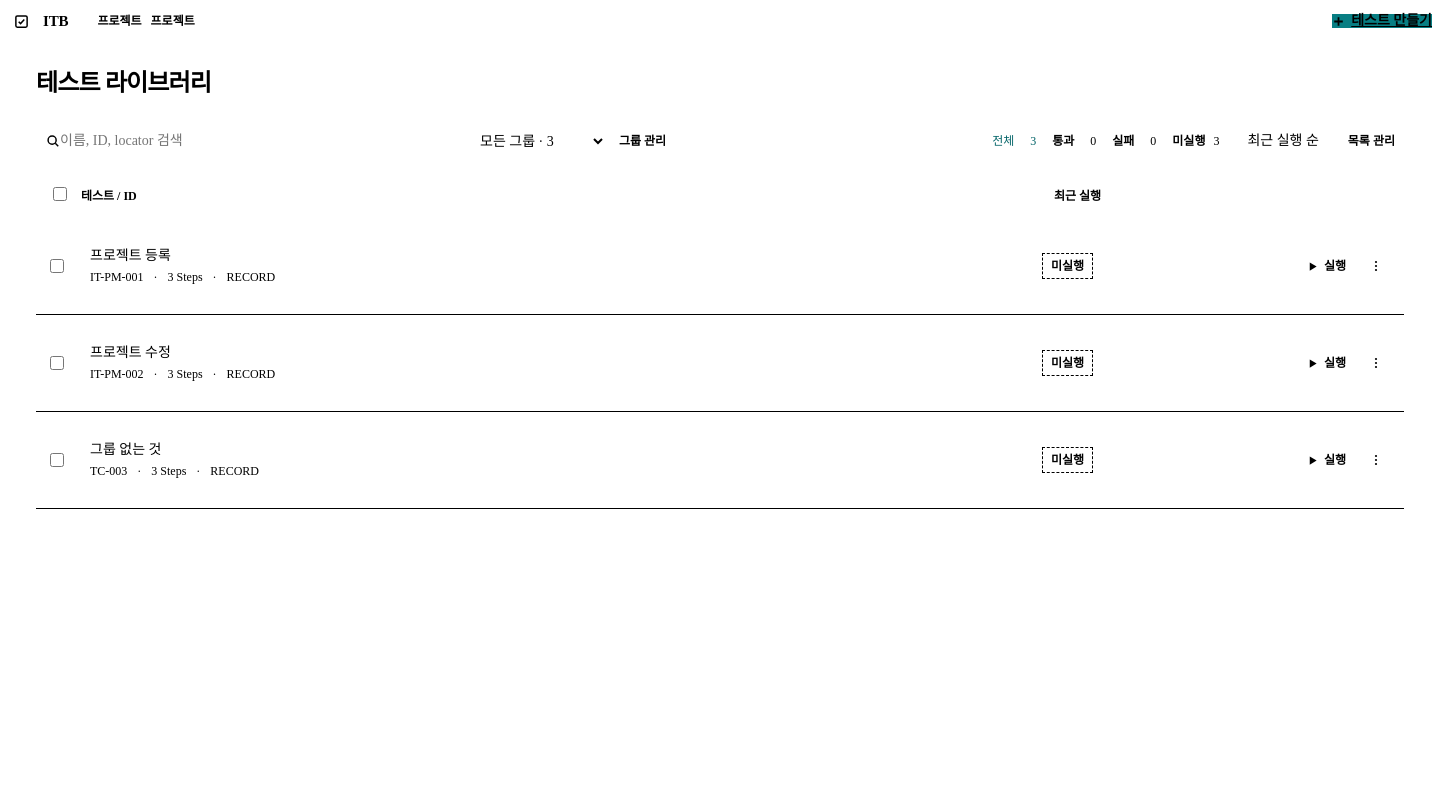
Scenario: 선택칸 경로 (FR-027 · SC-006) › 끌지 않고도 같은 이동을 한다
Expected: the text "프로젝트 등록" is shown, [90,248,171,263]
Click the checkbox named "프로젝트 등록 선택" at [57, 266], box [50,259,64,273]
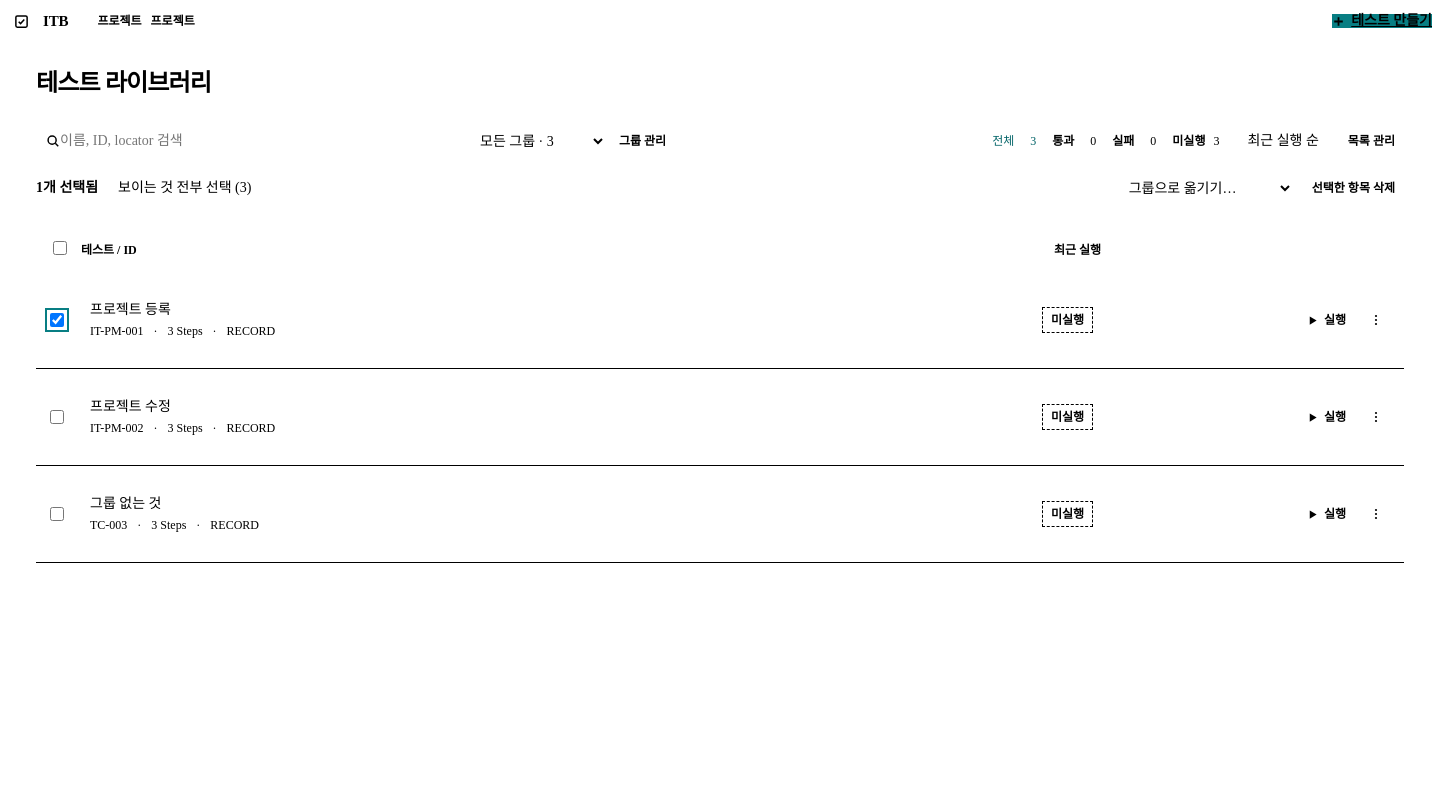
Select "데이터 관리" in the dropdown named "그룹으로 옮기기" at [1204, 188], box [1115,180,1293,196]
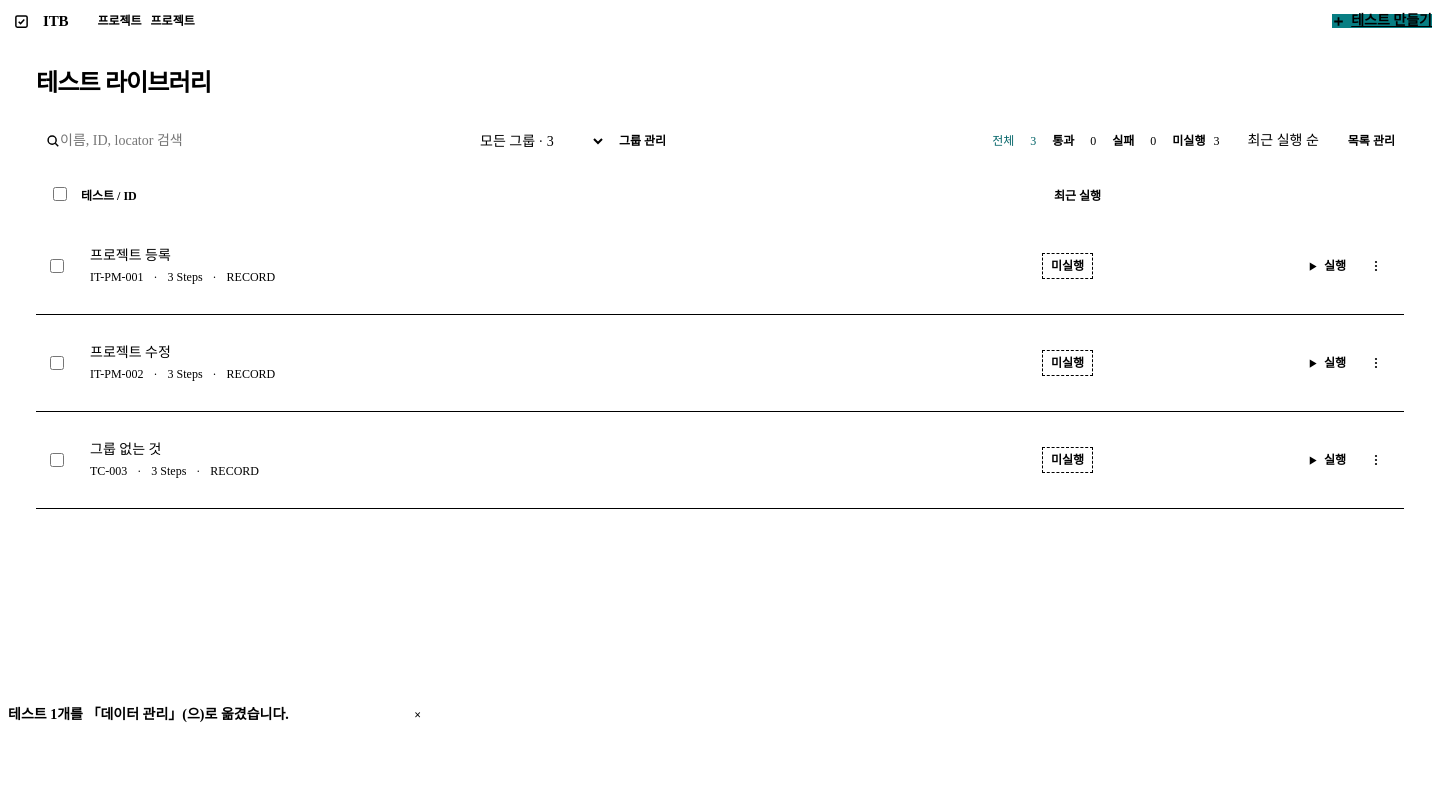
Result: the text "테스트 1개를 「데이터 관리」(으)로 옮겼습니다." is shown at [8,707,289,722]
